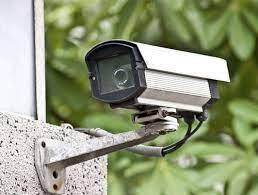tutu: (77, 30, 241, 124)
